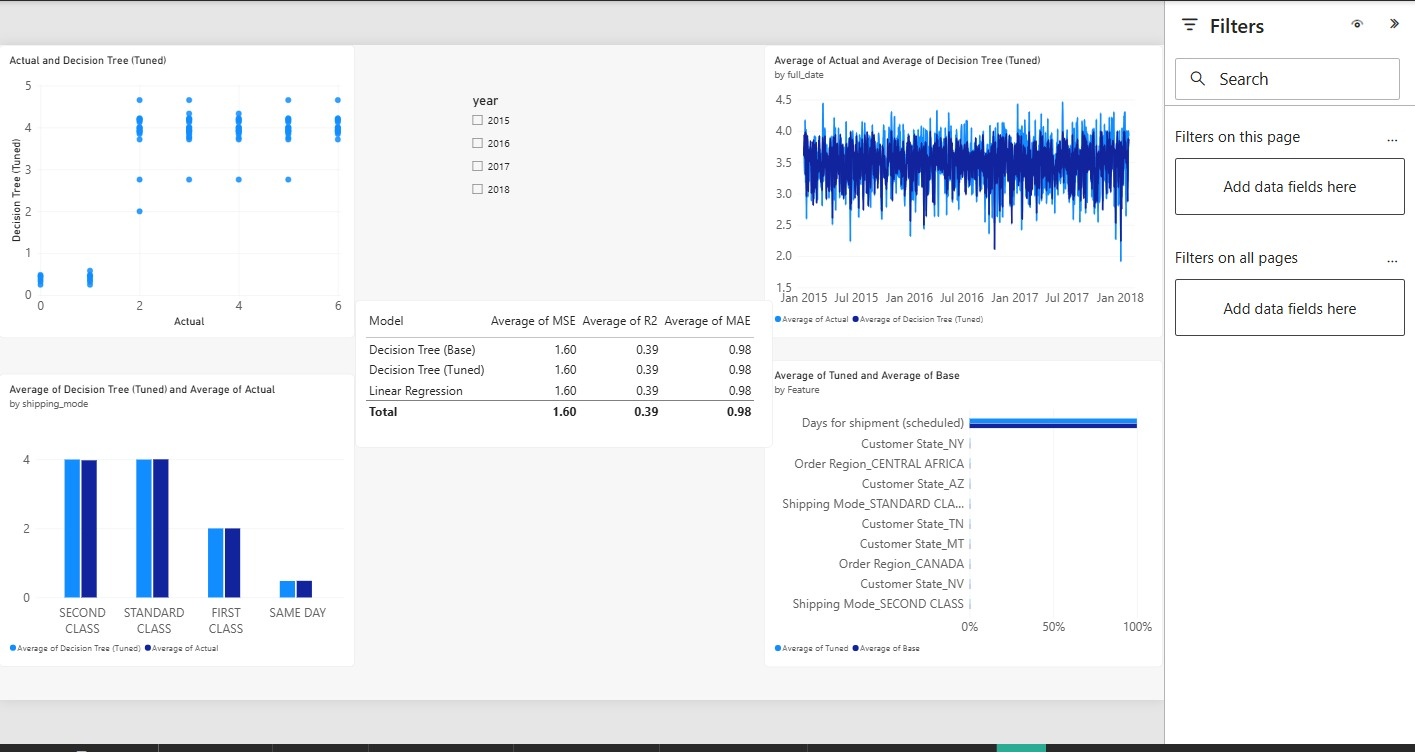

What the dashboard file says about the page in this screenshot:
{"tool":"powerbi","page":{"name":"Modeling DdS","canvas":[1920,1080],"ordinal":8},"visuals":[{"type":"scatterChart","fields":{"X":["dfs_predictions.Actual"],"Y":["dfs_predictions.Decision Tree (Tuned)"]},"box":[0,0,586.5,483],"z":0},{"type":"lineChart","fields":{"Category":["dim_date.full_date"],"Y":["Avg(dfs_predictions.Actual)","Avg(dfs_predictions.Decision Tree (Tuned))"]},"box":[1261.9,0,657.3,483],"z":1000},{"type":"clusteredColumnChart","fields":{"Category":["dim_shipping_mode.shipping_mode"],"Y":["Avg(dfs_predictions.Decision Tree (Tuned))","Avg(dfs_predictions.Actual)"]},"box":[0,542.9,586.5,483],"z":2000},{"type":"clusteredBarChart","fields":{"Category":["dfs_importance.Feature"],"Y":["Avg(dfs_importance.Tuned)","Avg(dfs_importance.Base)"]},"box":[1261.9,519.3,657.3,506.6],"z":3000},{"type":"slicer","fields":{"Values":["dim_date.year"]},"box":[771.7,78.1,227,203.4],"z":4000},{"type":"tableEx","fields":{"Values":["dfs_comparison.Model","Avg(dfs_comparison.MSE)","Avg(dfs_comparison.R2)","Avg(dfs_comparison.MAE)"]},"box":[586.5,421.3,688.2,243.3],"z":5000}]}

Visuals, with their boxes on the page's 1920x1080 design canvas (x1, y1, x2, y2). These are canvas units, not pixel positions in the 1415x752 screenshot, which may show the page scaled, cropped or inside an application window:
scatterChart - dfs_predictions.Actual x dfs_predictions.Decision Tree (Tuned): bbox=(0, 0, 586, 483)
lineChart - dim_date.full_date x Avg(dfs_predictions.Actual): bbox=(1262, 0, 1919, 483)
clusteredColumnChart - dim_shipping_mode.shipping_mode x Avg(dfs_predictions.Decision Tree (Tuned)): bbox=(0, 543, 586, 1026)
clusteredBarChart - dfs_importance.Feature x Avg(dfs_importance.Tuned): bbox=(1262, 519, 1919, 1026)
slicer - dim_date.year: bbox=(772, 78, 999, 282)
tableEx - dfs_comparison.Model x Avg(dfs_comparison.MSE): bbox=(586, 421, 1275, 665)
